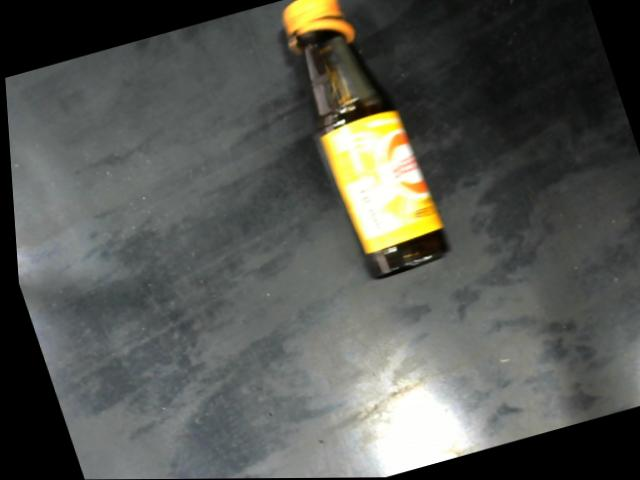glass: (278, 0, 450, 281)
